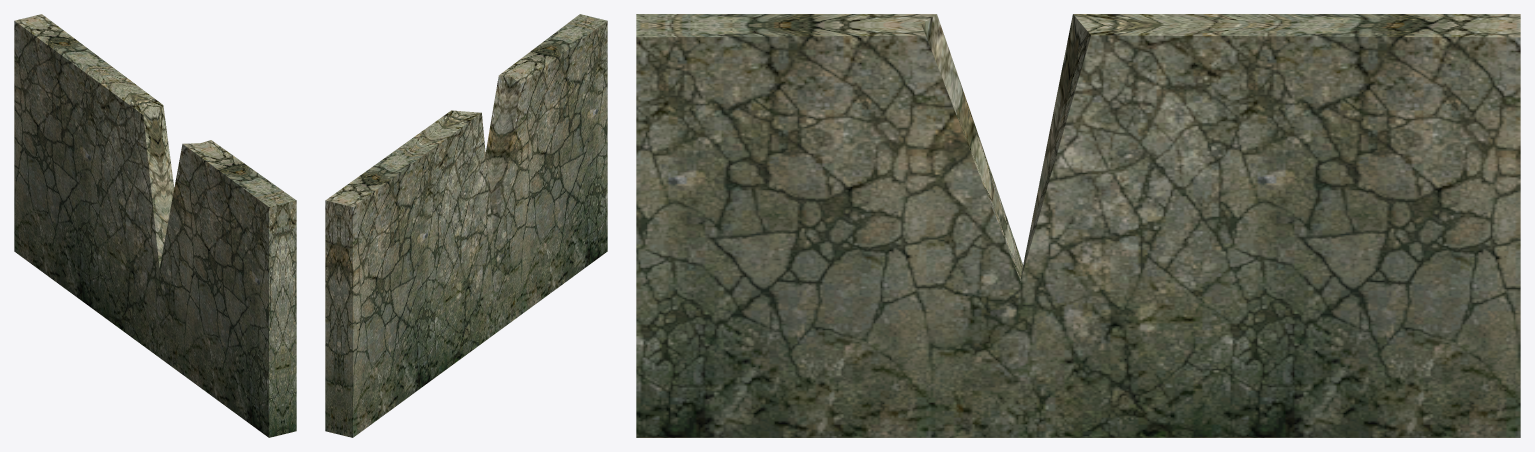
Rendered from thm_nboo_gungan_cleft_wall_lg_s01_l2.fbx.
3 renders of one model, left to right at view 1: azimuth 30°, elevation 25°; view 2: azimuth 150°, elevation 25°; view 3: azimuth 270°, elevation 25°, orthographic. The views are drawn at different scales.
Visible parts, largest first — view 1: mesh_node; view 2: mesh_node; view 3: mesh_node.
Part boxes in pixels (x1,y1,x2,y2): mesh_node: (14,14,296,437); mesh_node: (325,14,607,437); mesh_node: (636,14,1520,437).
Size of the model in its own units: 0.5 by 4.01 by 8.
